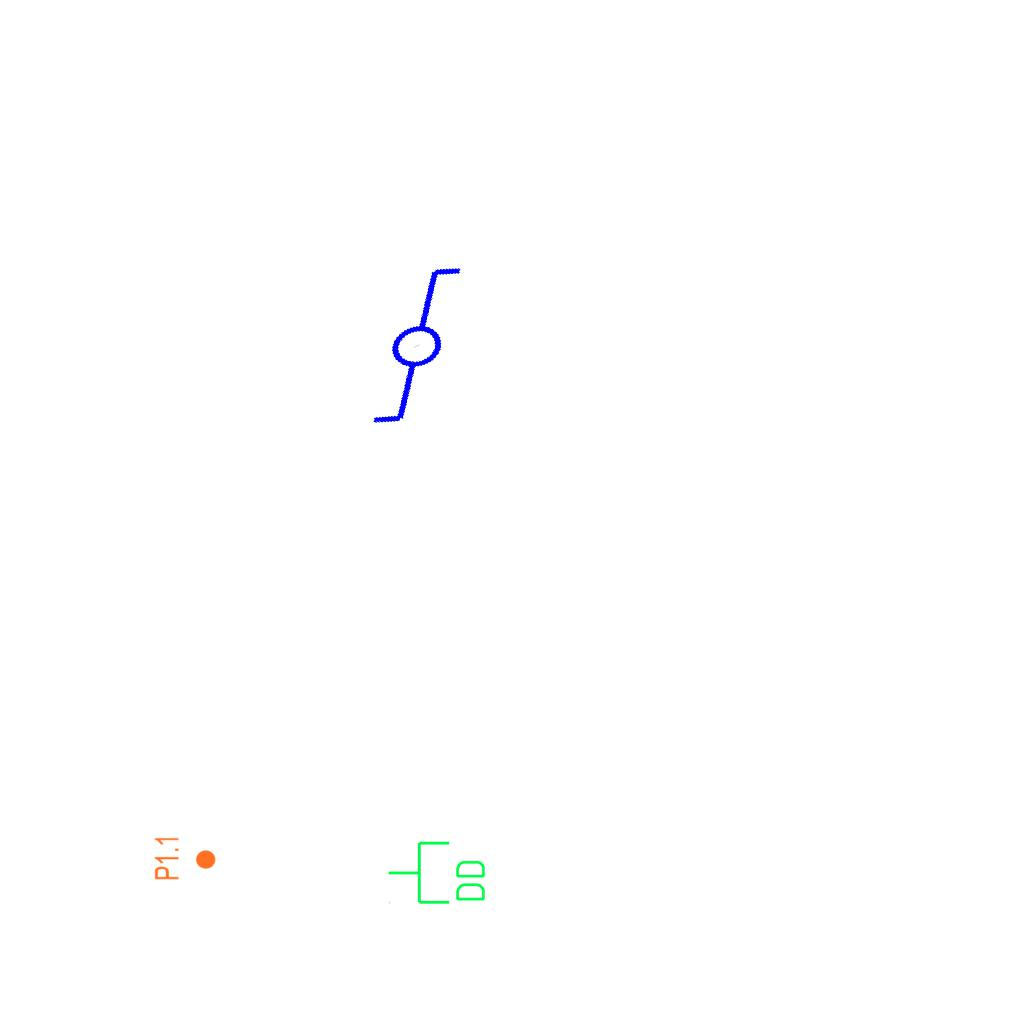Datenanschluss_zweifach: (386, 839, 489, 908)
Downlight_LED_Einbauleuchten_Flur: (153, 835, 217, 881)
Wechselschalter: (310, 253, 507, 441)
